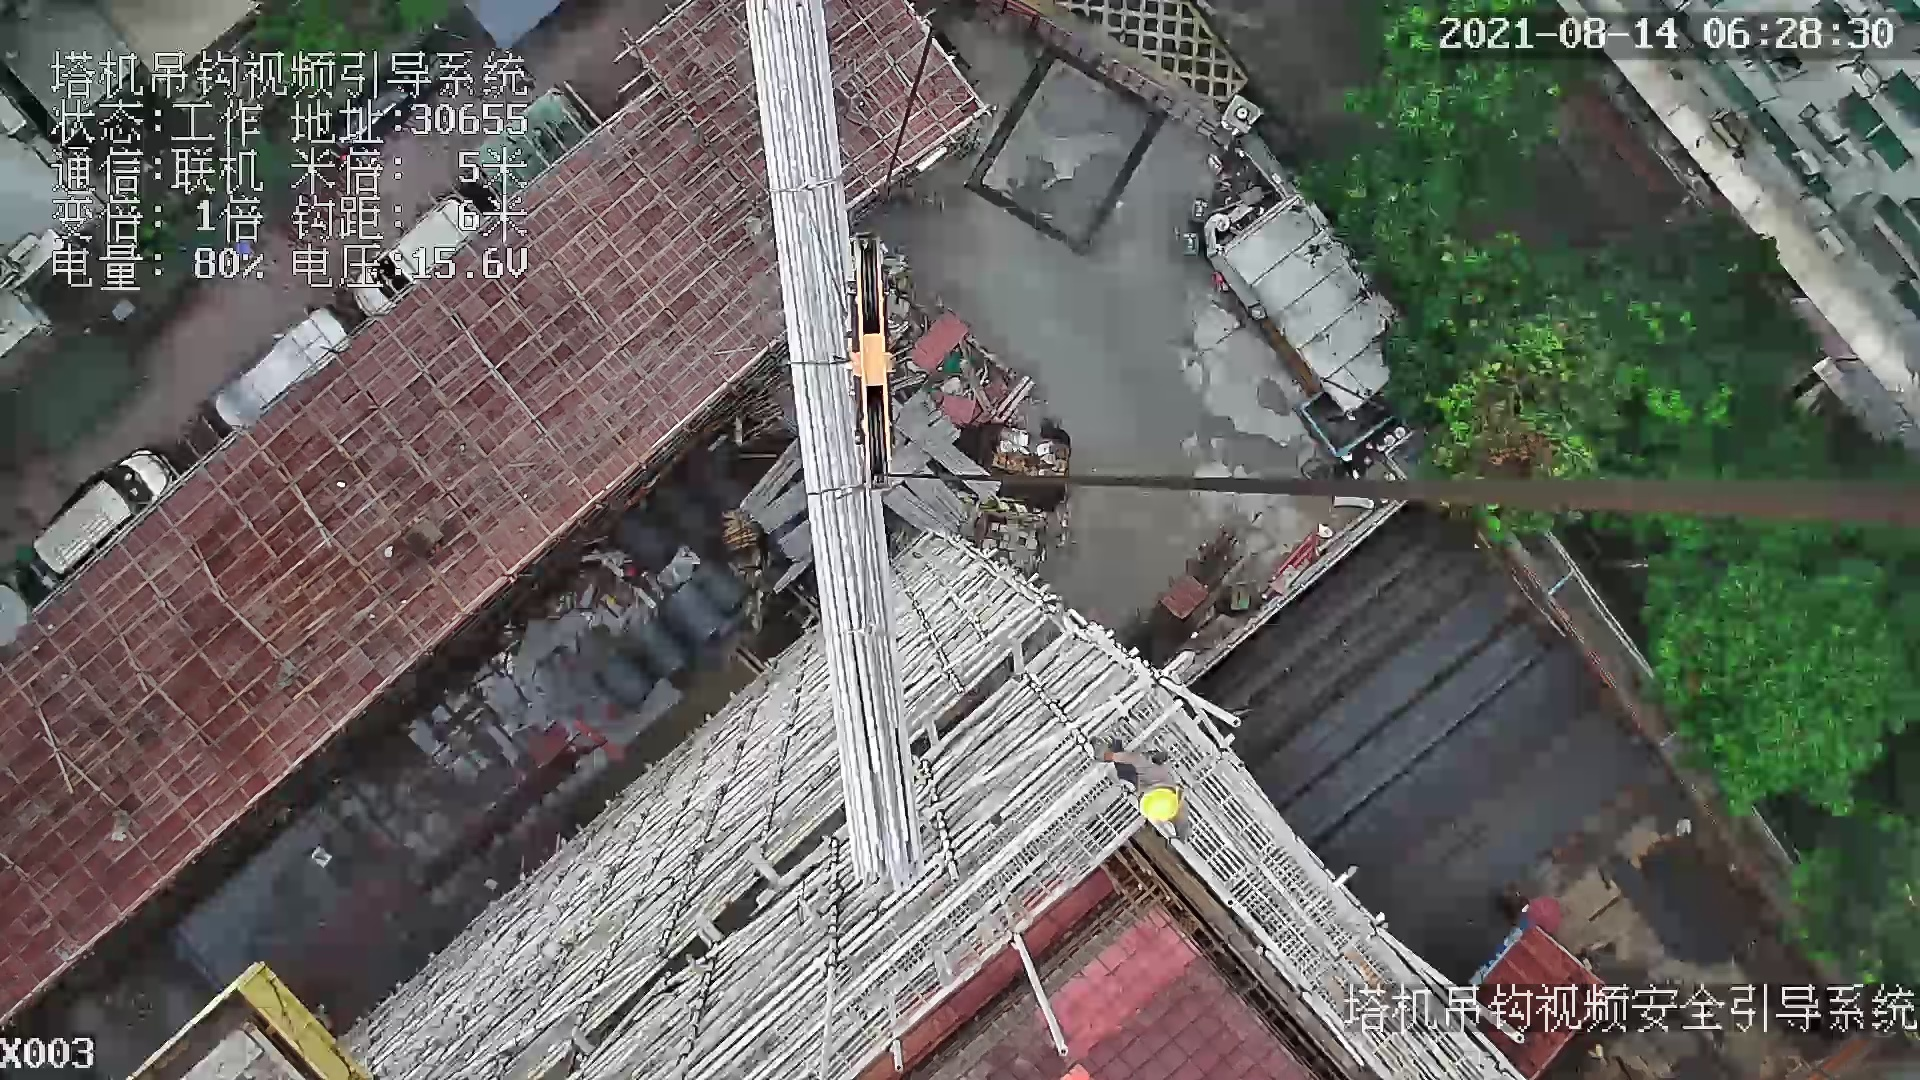helmet: (1137, 783, 1185, 827)
hook: (850, 234, 897, 497)
person: (1089, 741, 1193, 847)
